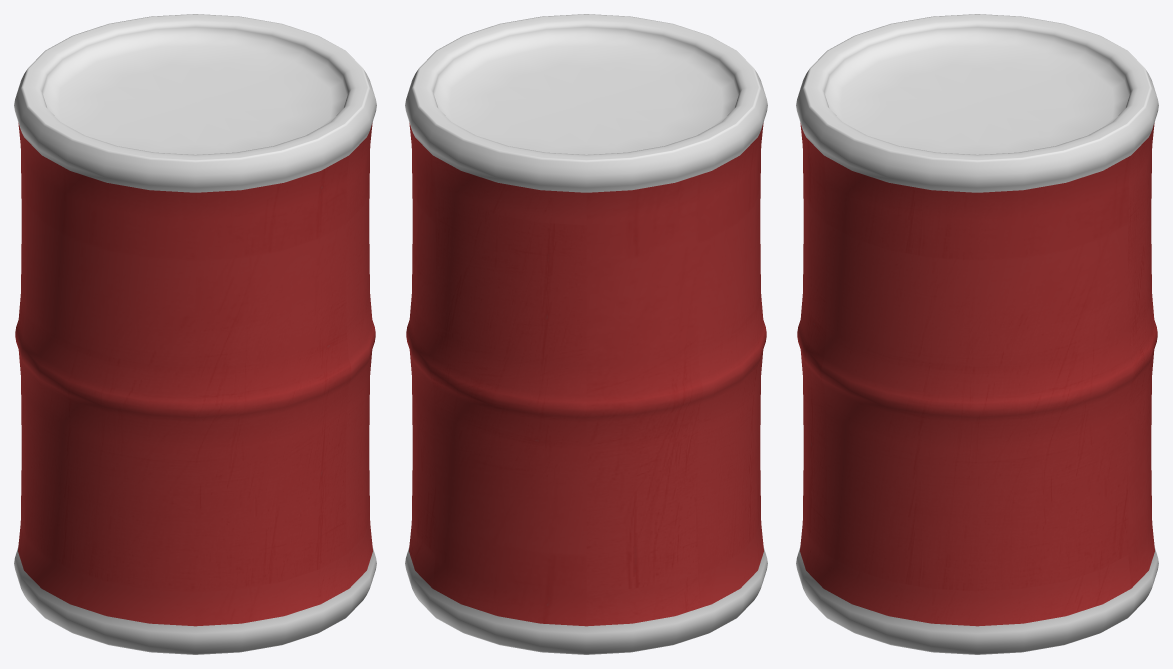
Rendered from OilBarrel.fbx.
The picture shows the model from 3 angles, left to right: view 1: azimuth 30°, elevation 25°; view 2: azimuth 150°, elevation 25°; view 3: azimuth 270°, elevation 25°; orthographic projection.
Parts seen in each view (by area): view 1: pCylinder1; view 2: pCylinder1; view 3: pCylinder1.
Boxes of the visible parts, x1=… form: pCylinder1: x1=14, y1=14, x2=376, y2=654; pCylinder1: x1=405, y1=14, x2=767, y2=654; pCylinder1: x1=796, y1=14, x2=1158, y2=654.
Bounding box in the file's own units: 2.02 × 3.03 × 2.02.
Materials: 2 (1 with a texture image).
